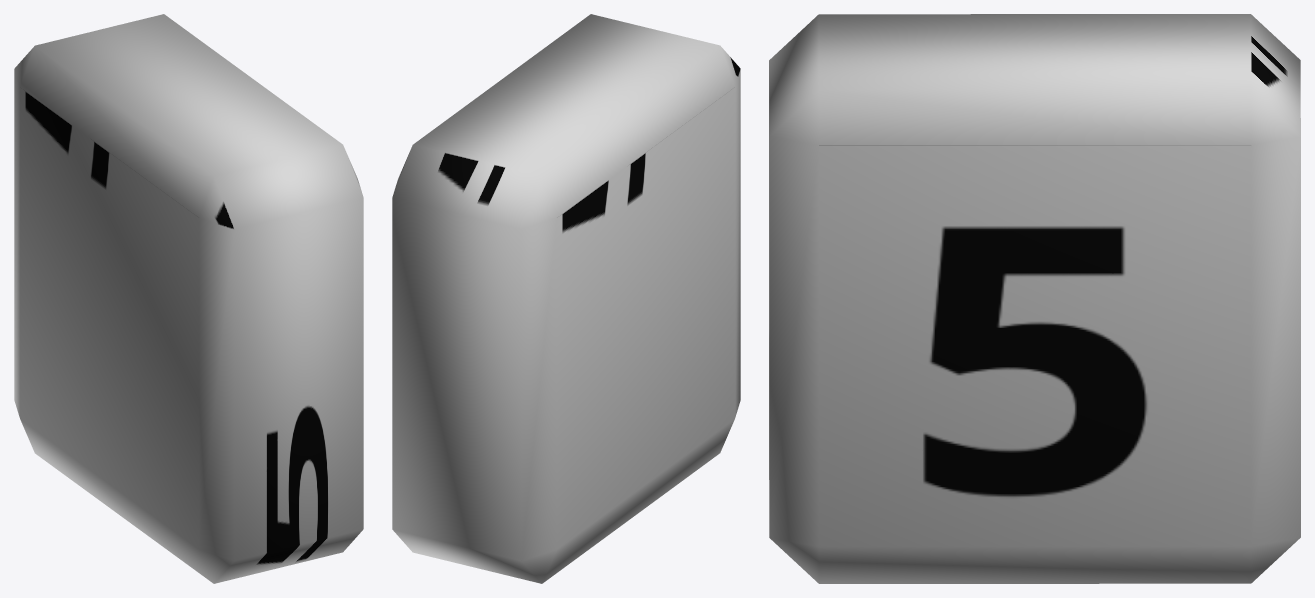
File: Boton5.fbx
3 views of the same model, side by side, from view 1: azimuth 30°, elevation 25°; view 2: azimuth 150°, elevation 25°; view 3: azimuth 270°, elevation 25° (orthographic). The views are drawn at different scales.
Visible parts, largest first — view 1: Boton5; view 2: Boton5; view 3: Boton5.
Part boxes in pixels (x1=…): Boton5: x1=14, y1=14, x2=363, y2=583; Boton5: x1=392, y1=14, x2=740, y2=583; Boton5: x1=769, y1=14, x2=1300, y2=583.
Bounding box in the file's own units: 1.36 × 3.32 × 3.25.
